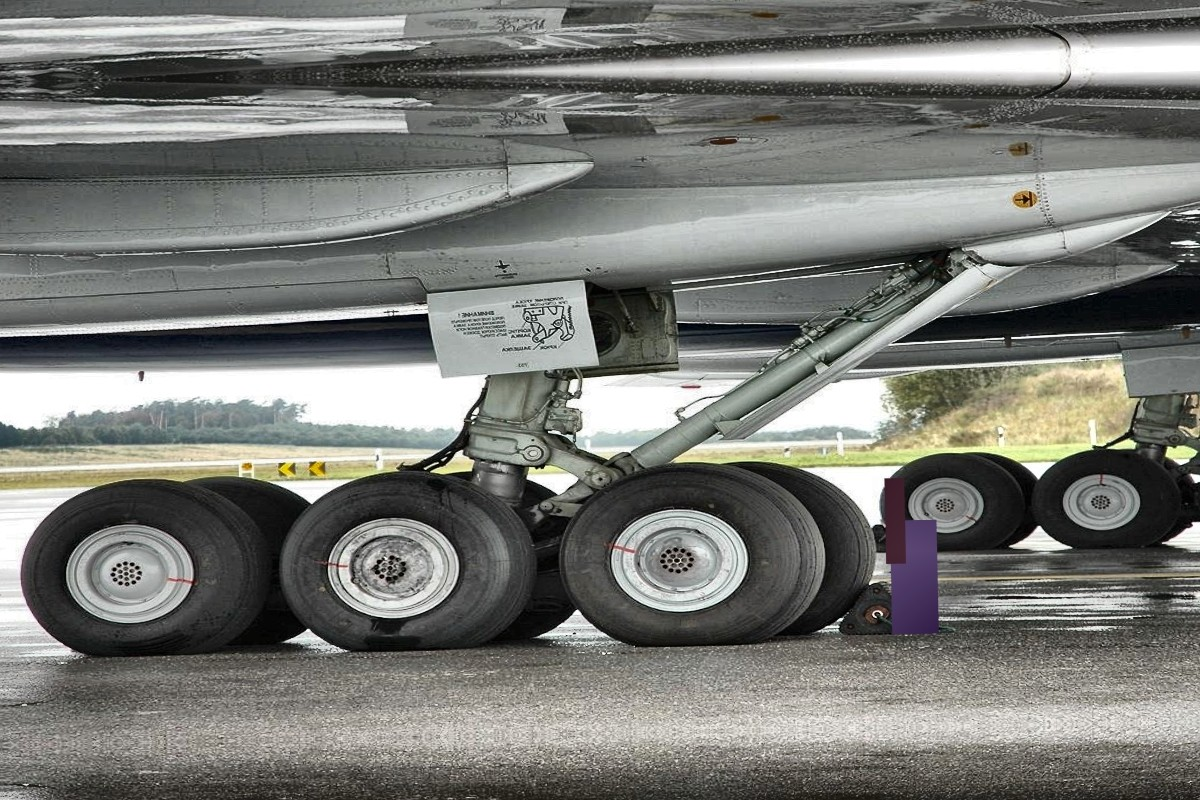chock: (832, 577, 938, 640), (866, 520, 908, 555)
wheel: (554, 458, 834, 651), (275, 469, 539, 658), (15, 476, 262, 661), (1035, 450, 1185, 554), (879, 448, 1026, 553)
